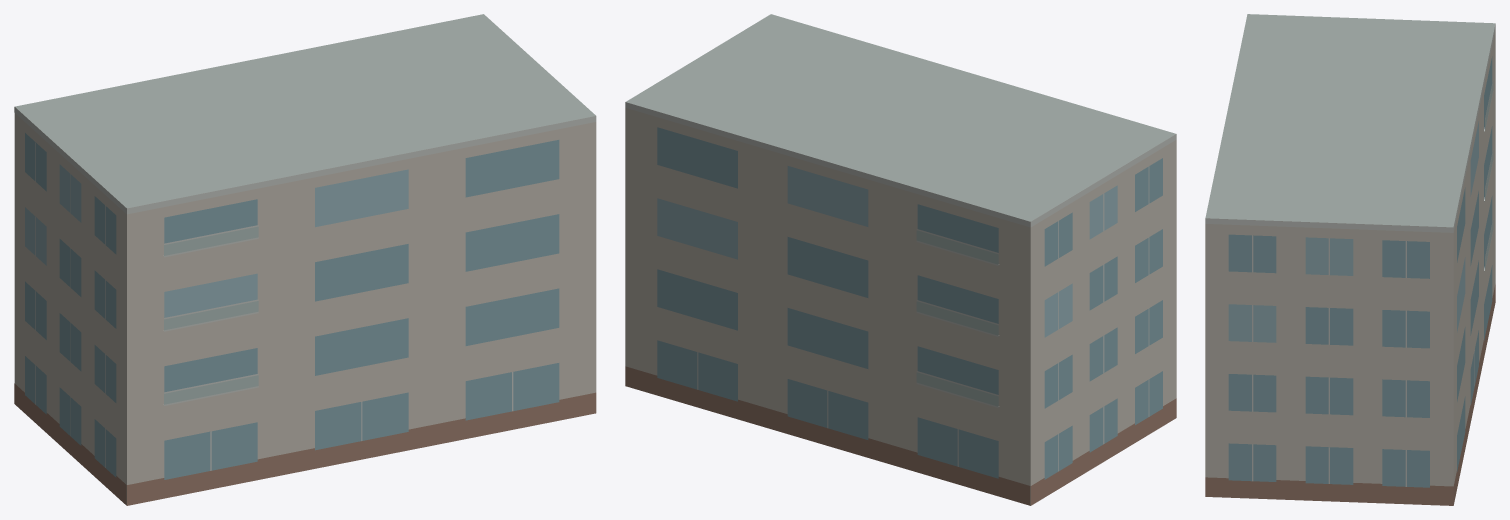
File: residential-7d9ef494-ea65-42bc-bd2c-3a0edb089d39.glb
3 renders of one model, left to right at view 1: azimuth 30°, elevation 25°; view 2: azimuth 150°, elevation 25°; view 3: azimuth 270°, elevation 25°, orthographic. The views are drawn at different scales.
Parts seen in each view (by area): view 1: residential-7d9ef494-ea65-42bc-bd2c-3a0edb089d39.tmp; view 2: residential-7d9ef494-ea65-42bc-bd2c-3a0edb089d39.tmp; view 3: residential-7d9ef494-ea65-42bc-bd2c-3a0edb089d39.tmp.
Part boxes in pixels (bbox=[...]): residential-7d9ef494-ea65-42bc-bd2c-3a0edb089d39.tmp: bbox=[14, 14, 596, 505]; residential-7d9ef494-ea65-42bc-bd2c-3a0edb089d39.tmp: bbox=[625, 14, 1176, 505]; residential-7d9ef494-ea65-42bc-bd2c-3a0edb089d39.tmp: bbox=[1205, 14, 1495, 505].
Size of the model in its own units: 20.06 by 12.2 by 11.53.
